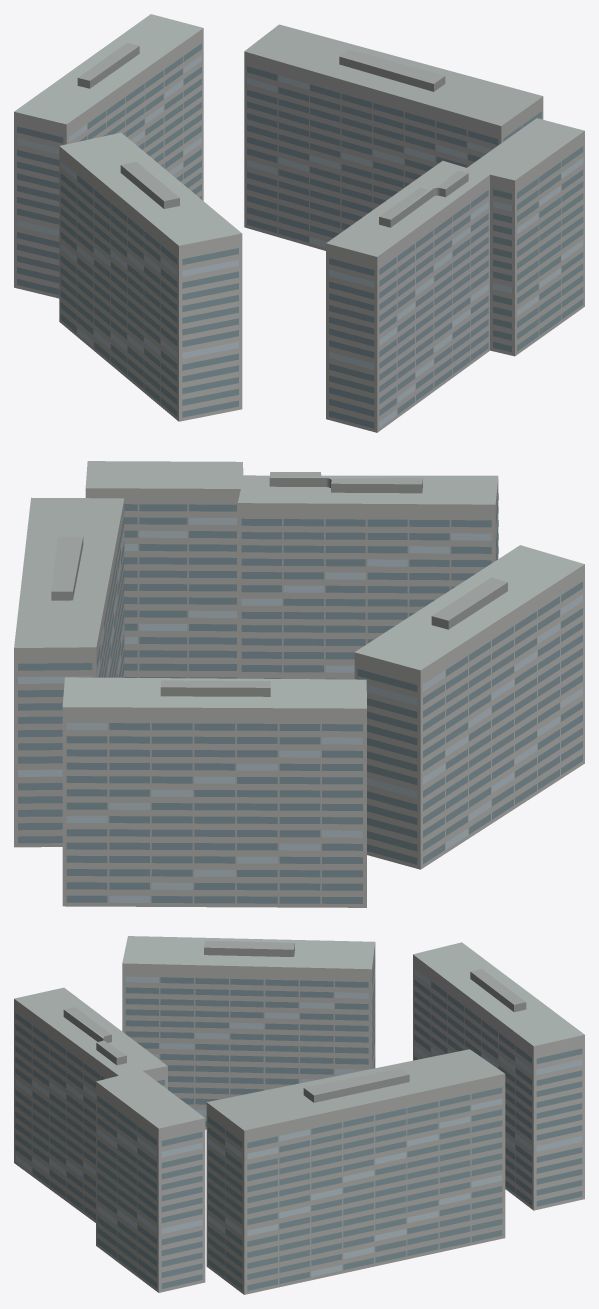
Rendered from apt-a13406005.glb.
The picture shows the model from 3 angles, top to bottom: view 1: azimuth 30°, elevation 25°; view 2: azimuth 150°, elevation 25°; view 3: azimuth 270°, elevation 25°; orthographic projection. The views are drawn at different scales.
Visible parts, largest first — view 1: apt-a13406005; view 2: apt-a13406005; view 3: apt-a13406005.
Part boxes in pixels (x1=…): apt-a13406005: x1=14, y1=14, x2=584, y2=432; apt-a13406005: x1=14, y1=461, x2=584, y2=907; apt-a13406005: x1=14, y1=936, x2=584, y2=1294.
Size of the model in its own units: 116 by 47.81 by 144.
